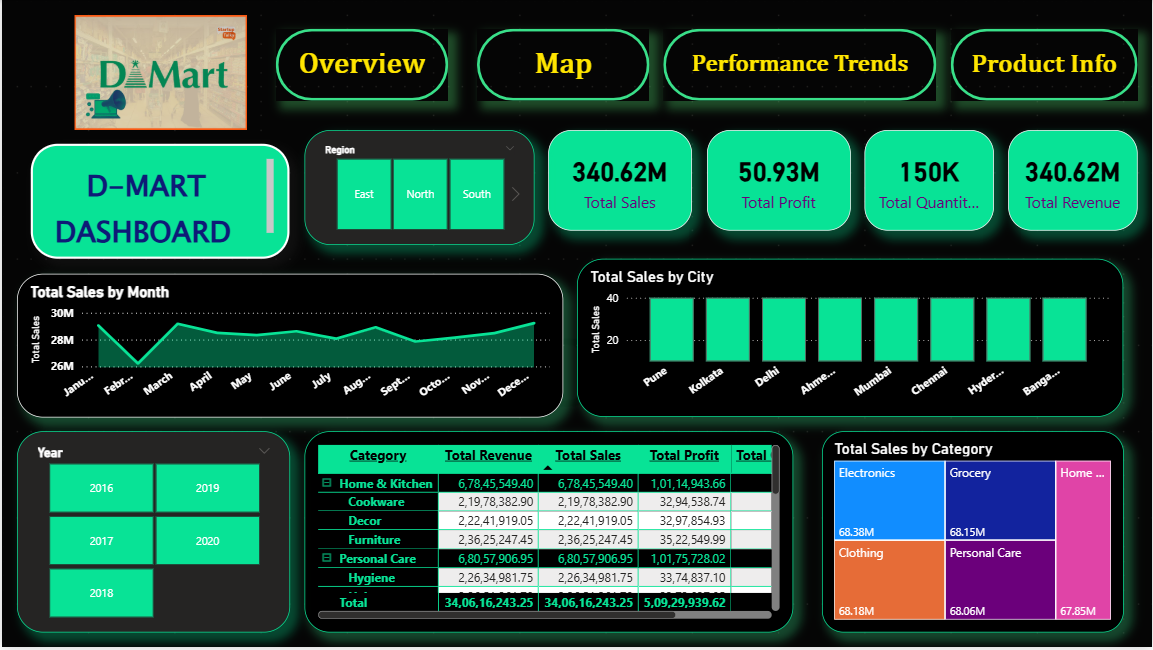

What the dashboard file says about the page in this screenshot:
{"tool":"powerbi","page":{"name":"Executive Summary ","canvas":[1280,720],"ordinal":1},"visuals":[{"type":"card","fields":{"Values":["dmart_powerbi_dataset_50k.Total Sales"]},"box":[608,144,160,112],"z":0},{"type":"card","fields":{"Values":["dmart_powerbi_dataset_50k.Total Profit"]},"box":[784,144,160,112],"z":1000},{"type":"card","fields":{"Values":["dmart_powerbi_dataset_50k.Total Quantity Sold"]},"box":[960,144,144,112],"z":2000},{"type":"card","fields":{"Values":["dmart_powerbi_dataset_50k.Total Revenue"]},"box":[1120,144,144,112],"z":3000},{"type":"stackedAreaChart","fields":{"Category":["dmart_powerbi_dataset_50k.Order_Date.Variation.Date Hierarchy.Month"],"Y":["dmart_powerbi_dataset_50k.Total Sales"]},"box":[16,304,608,160],"z":4000},{"type":"pivotTable","fields":{"Rows":["dmart_powerbi_dataset_50k.Category","dmart_powerbi_dataset_50k.Subcategory"],"Values":["dmart_powerbi_dataset_50k.Total Revenue","dmart_powerbi_dataset_50k.Total Sales","dmart_powerbi_dataset_50k.Total Profit","dmart_powerbi_dataset_50k.Total Quantity Sold"]},"box":[336,480,544,224],"z":5000},{"type":"clusteredColumnChart","fields":{"Category":["dmart_powerbi_dataset_50k.City"],"Y":["dmart_powerbi_dataset_50k.Total Sales"]},"box":[640,288,608,176],"z":6000},{"type":"treemap","fields":{"Group":["dmart_powerbi_dataset_50k.Category"],"Values":["dmart_powerbi_dataset_50k.Total Sales"]},"box":[912,480,336,224],"z":7000},{"type":"slicer","fields":{"Values":["dmart_powerbi_dataset_50k.Order_Date.Variation.Date Hierarchy.Year"]},"box":[16,480,304,224],"z":8000},{"type":"slicer","fields":{"Values":["dmart_powerbi_dataset_50k.Region"]},"box":[336,144,256,128],"z":9000},{"type":"actionButton","box":[528,32,192,80],"z":10000},{"type":"actionButton","box":[736,32,304,80],"z":11000},{"type":"actionButton","box":[1056,32,208,80],"z":12000},{"type":"actionButton","box":[304,32,192,80],"z":13000},{"type":"textbox","box":[32,160,288,128],"z":14000},{"type":"image","box":[16,16,320,128],"z":15000}]}

Visuals, with their boxes in screenshot pixels (x1, y1, x2, y2), scaled from the page's 1280x720 canvas onto the 1153x650 screenshot:
card - dmart_powerbi_dataset_50k.Total Sales: 548, 130, 692, 231
card - dmart_powerbi_dataset_50k.Total Profit: 706, 130, 850, 231
card - dmart_powerbi_dataset_50k.Total Quantity Sold: 865, 130, 994, 231
card - dmart_powerbi_dataset_50k.Total Revenue: 1009, 130, 1139, 231
stackedAreaChart - dmart_powerbi_dataset_50k.Order_Date.Variation.Date Hierarchy.Month x dmart_powerbi_dataset_50k.Total Sales: 14, 274, 562, 419
pivotTable - dmart_powerbi_dataset_50k.Category x dmart_powerbi_dataset_50k.Subcategory: 303, 433, 793, 636
clusteredColumnChart - dmart_powerbi_dataset_50k.City x dmart_powerbi_dataset_50k.Total Sales: 576, 260, 1124, 419
treemap - dmart_powerbi_dataset_50k.Category x dmart_powerbi_dataset_50k.Total Sales: 822, 433, 1124, 636
slicer - dmart_powerbi_dataset_50k.Order_Date.Variation.Date Hierarchy.Year: 14, 433, 288, 636
slicer - dmart_powerbi_dataset_50k.Region: 303, 130, 533, 246
actionButton: 476, 29, 649, 101
actionButton: 663, 29, 937, 101
actionButton: 951, 29, 1139, 101
actionButton: 274, 29, 447, 101
textbox: 29, 144, 288, 260
image: 14, 14, 303, 130
